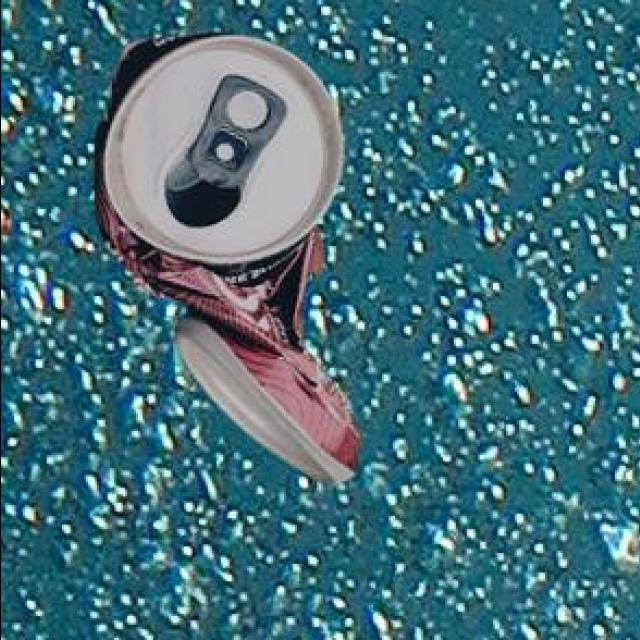logam: (97, 29, 362, 482)
